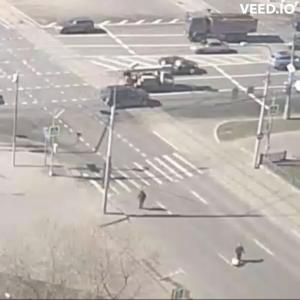car: (181, 8, 262, 46), (117, 71, 180, 93), (102, 89, 154, 113), (162, 58, 210, 77), (61, 19, 95, 36), (195, 40, 232, 55), (275, 54, 300, 72)
